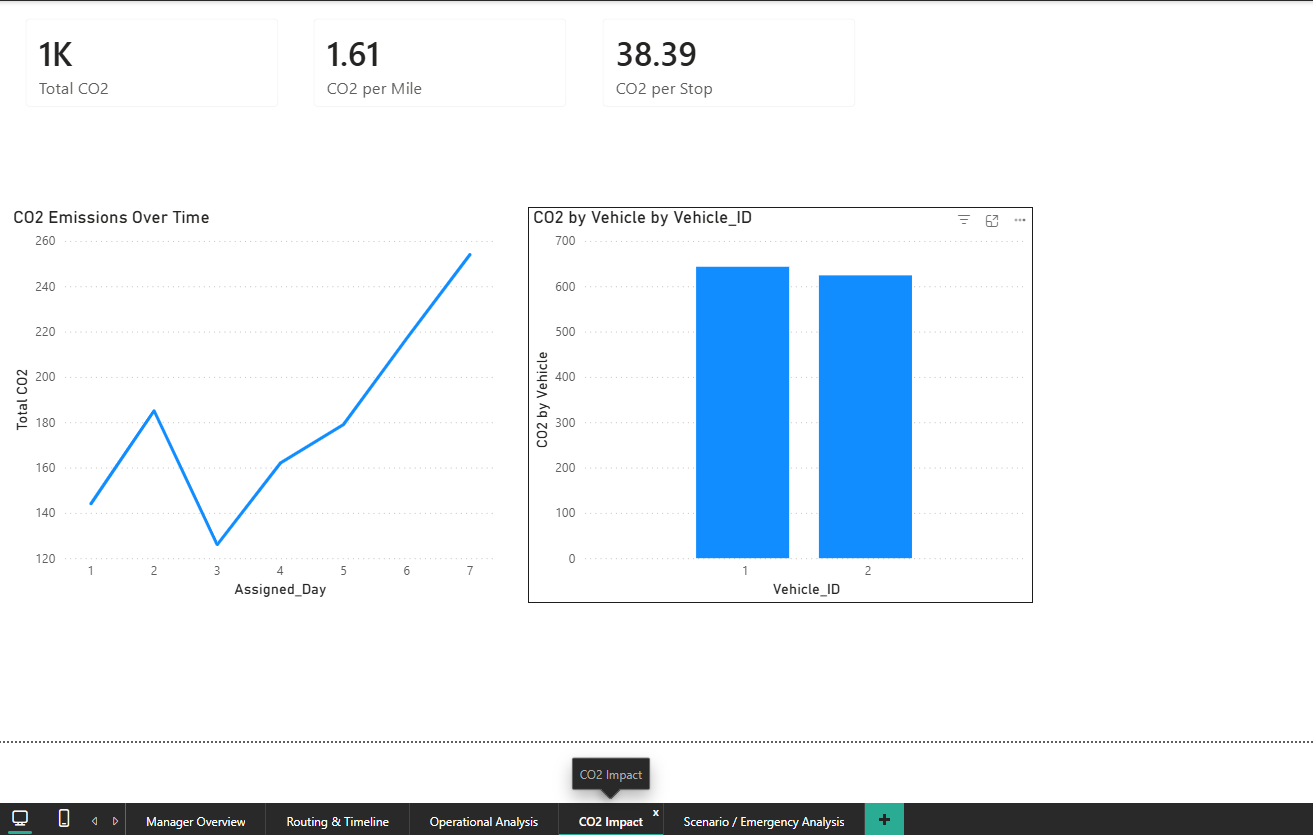

The dashboard page shown, as its layout file describes it:
{"tool":"powerbi","page":{"name":"CO2 Impact","canvas":[1280,720],"ordinal":3},"visuals":[{"type":"cardVisual","fields":{"Data":["Input_Config.Total CO2"]},"box":[9.9,0,280.3,120.6],"z":0},{"type":"cardVisual","fields":{"Data":["Input_Config.CO2 per Mile"]},"box":[290.2,0,280.3,120.6],"z":1},{"type":"cardVisual","fields":{"Data":["Input_Config.CO2 per Stop"]},"box":[570.5,0,280.3,120.6],"z":2},{"type":"lineChart","title":"CO2 Emissions Over Time","fields":{"Category":["Final_Schedule_Model.Assigned_Day"],"Y":["Input_Config.Total CO2"]},"box":[9.9,200.8,478.9,384.6],"z":3},{"type":"clusteredColumnChart","fields":{"Category":["Final_Schedule_Model.Vehicle_ID"],"Y":["Input_Config.CO2 by Vehicle"]},"box":[515.8,200.8,491,384.6],"z":4}]}

Visuals, with their boxes on the page's 1280x720 design canvas (x1, y1, x2, y2). These are canvas units, not pixel positions in the 1313x835 screenshot, which may show the page scaled, cropped or inside an application window:
cardVisual - Input_Config.Total CO2: select_region(10, 0, 290, 121)
cardVisual - Input_Config.CO2 per Mile: select_region(290, 0, 570, 121)
cardVisual - Input_Config.CO2 per Stop: select_region(570, 0, 851, 121)
"CO2 Emissions Over Time" lineChart: select_region(10, 201, 489, 585)
clusteredColumnChart - Final_Schedule_Model.Vehicle_ID x Input_Config.CO2 by Vehicle: select_region(516, 201, 1007, 585)
